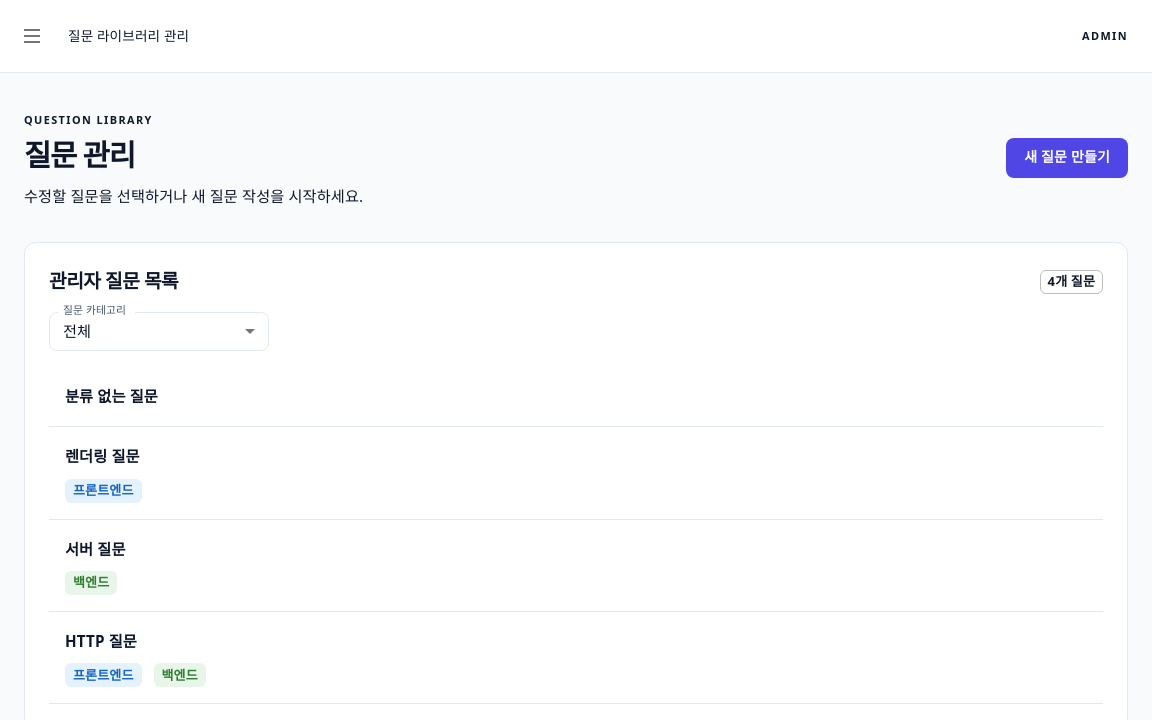
shows category badges and filters unclassified, single and dual membership locally with matching counts
Expected: the text "4개 질문" is shown, [1048,272,1095,290]
Expected: the link "분류 없는 질문" is shown, [65,386,158,406]
Click the dropdown named "질문 카테고리" at point(77, 330), box [63,320,91,340]
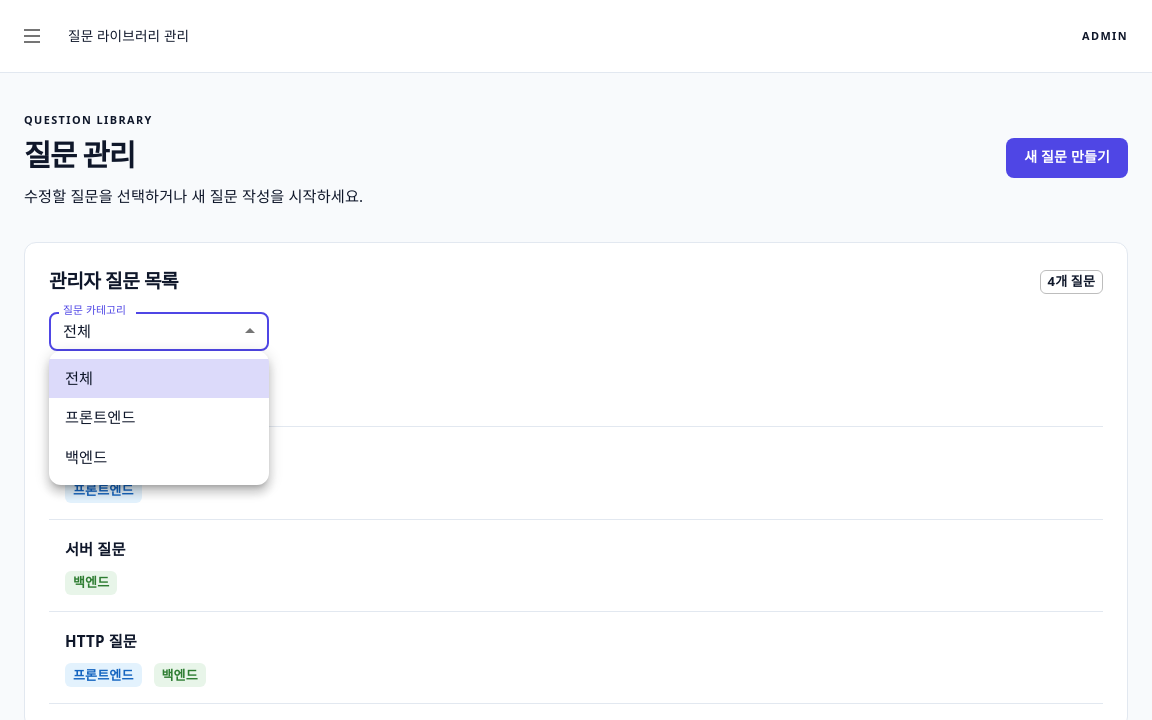
Click the option "프론트엔드" at point(100, 417), box [65,407,136,427]
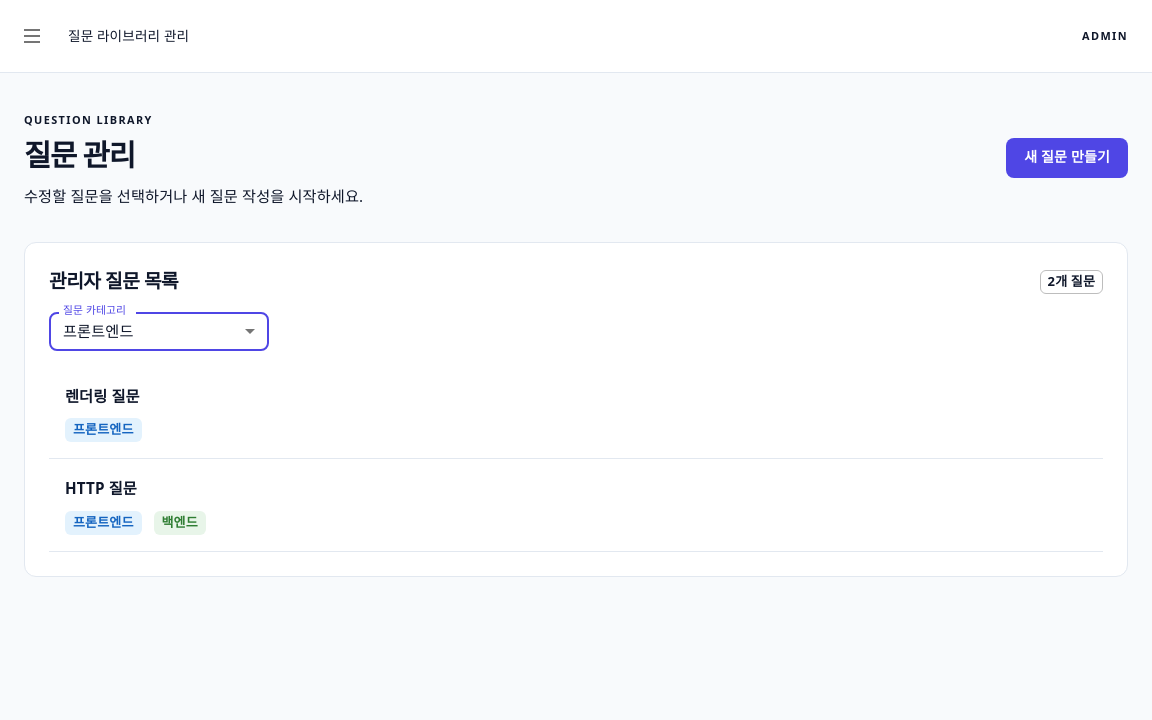
Click the dropdown named "질문 카테고리" at point(98, 330), box [63,320,134,340]
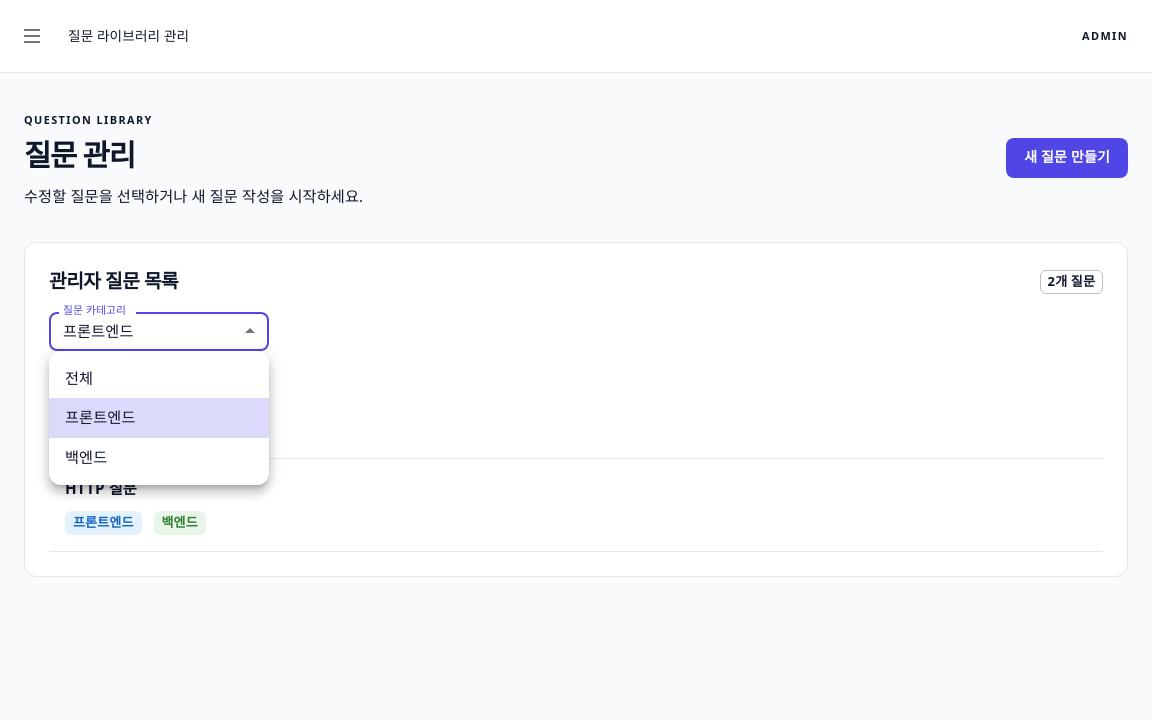
Click the option "백엔드" at point(86, 457), box [65,447,107,467]
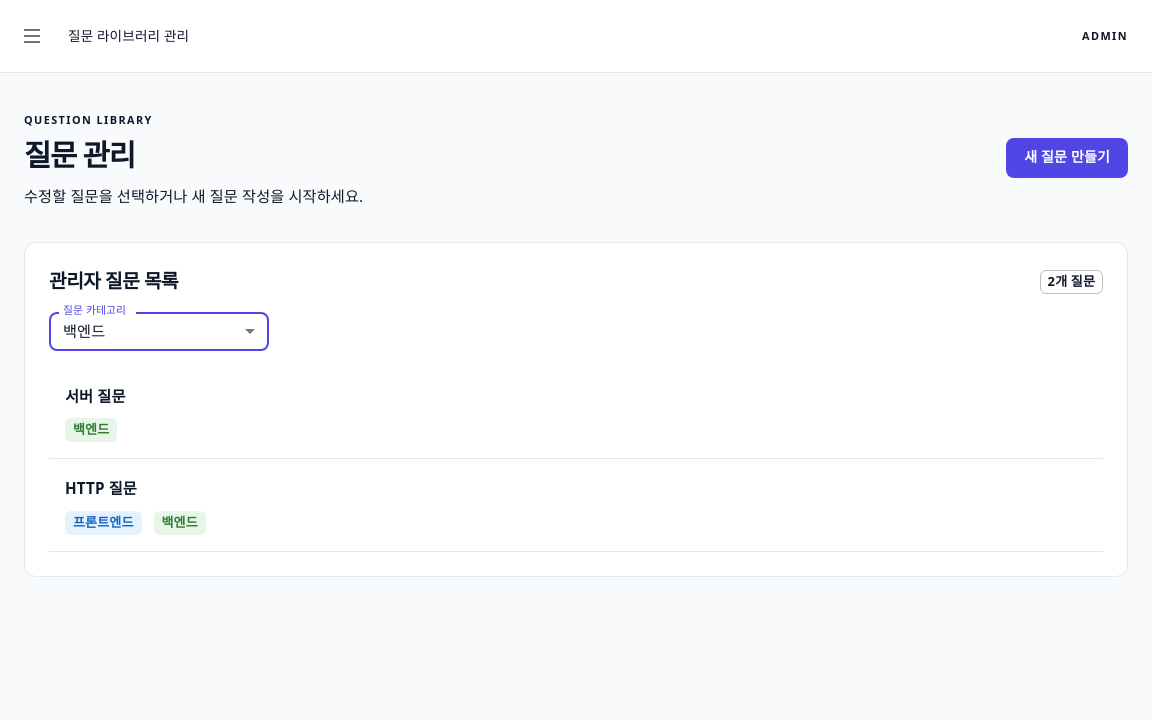
Click the dropdown named "질문 카테고리" at point(84, 330), box [63,320,105,340]
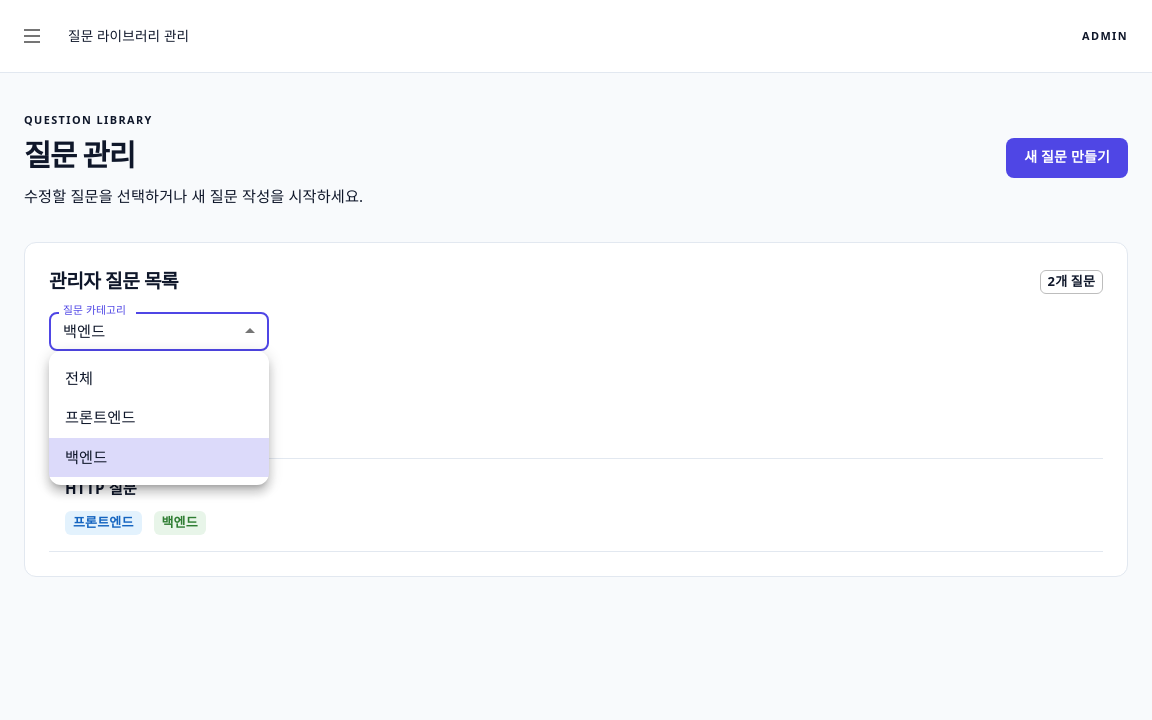
Click the option "전체" at point(79, 378), box [65,368,93,388]
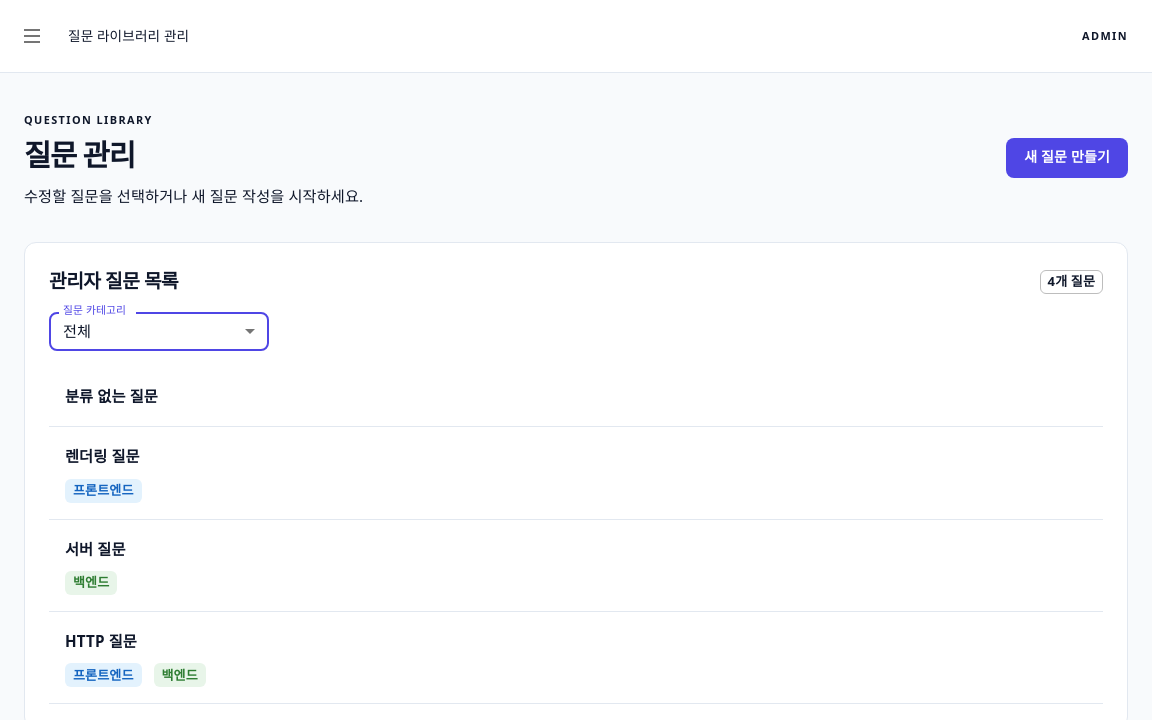
Now the text "4개 질문" is shown, box [1048,272,1095,290]
